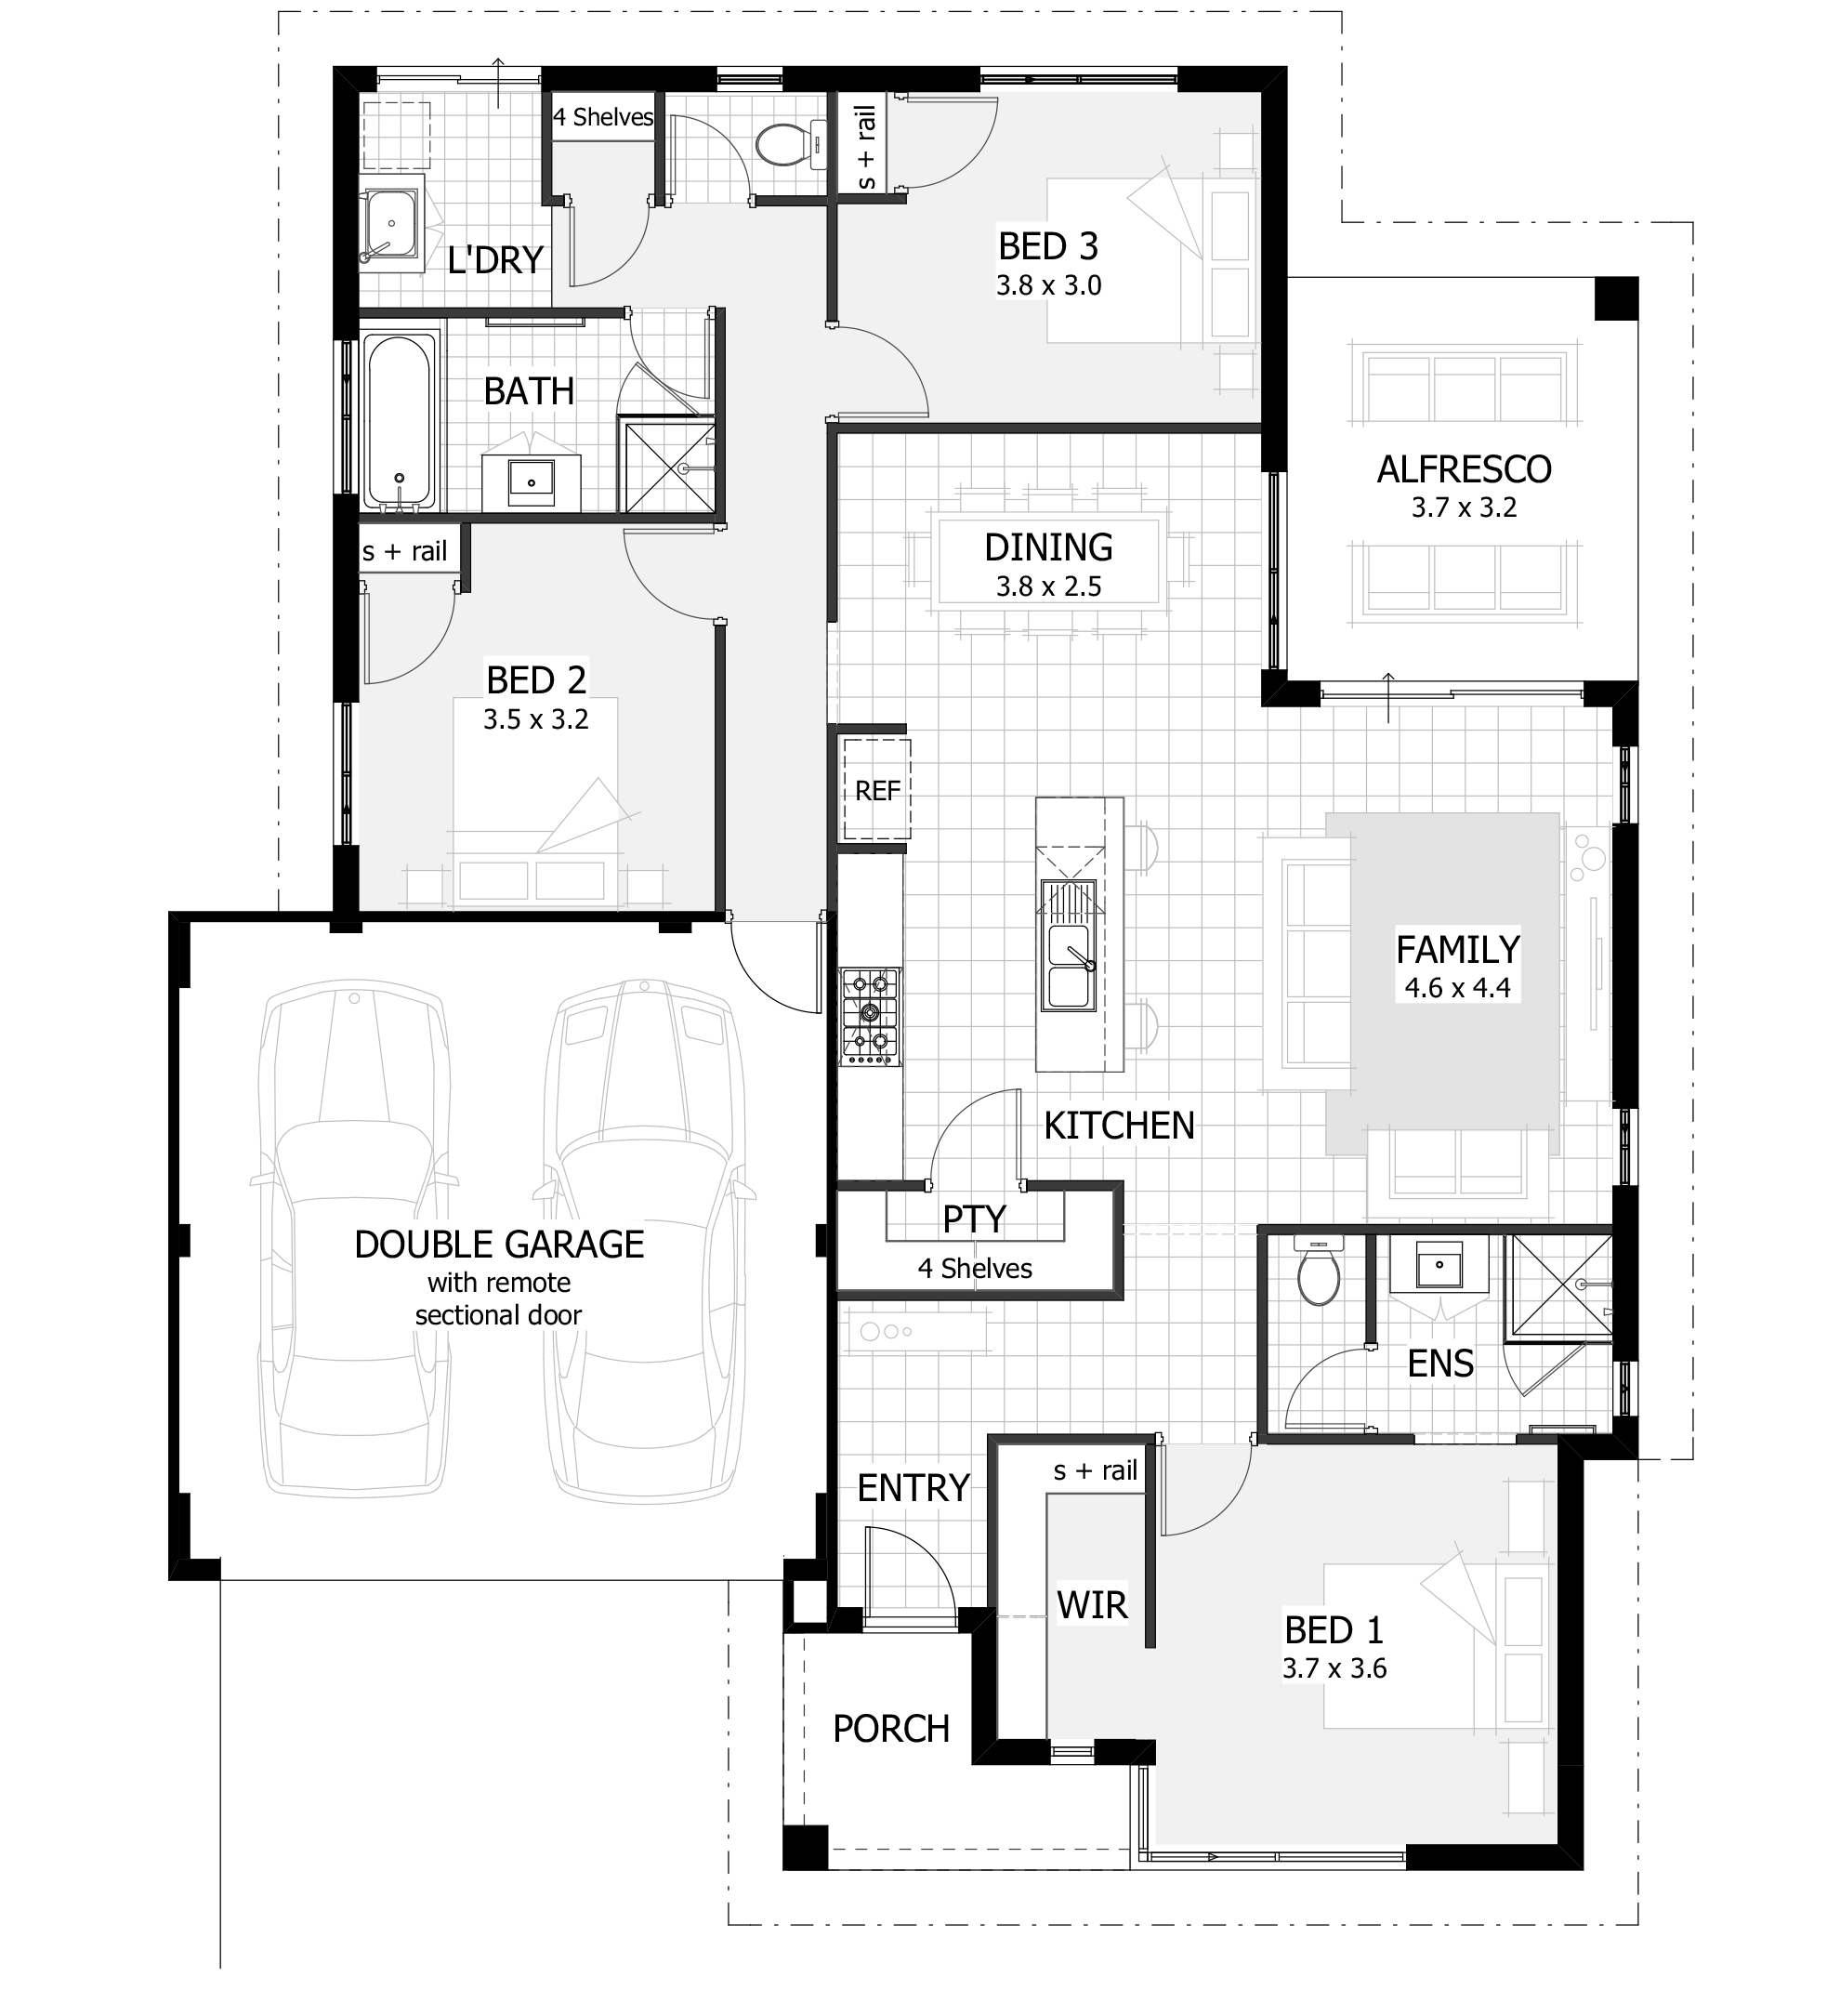room: (156, 904, 813, 1582), (818, 680, 1654, 1187), (1157, 1458, 1592, 1870), (829, 61, 1290, 448), (330, 506, 732, 922), (859, 441, 1252, 718), (335, 60, 718, 330), (1247, 1219, 1636, 1465), (330, 297, 722, 522), (980, 1428, 1169, 1768), (822, 1178, 1127, 1305)
